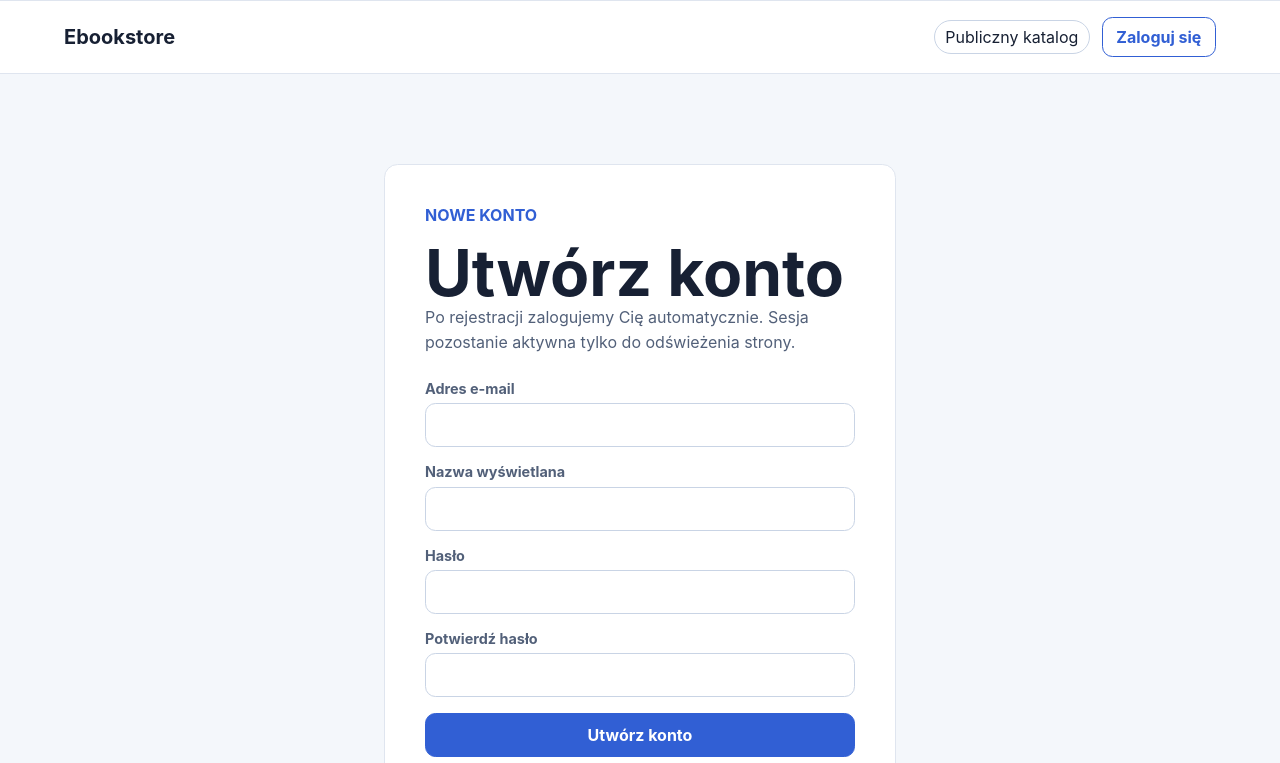
registration flow › creates an account, logs in and returns to the catalog
Type "user@example.com" into the field labelled "Adres e-mail" at (640, 425), box [425,403,855,447]
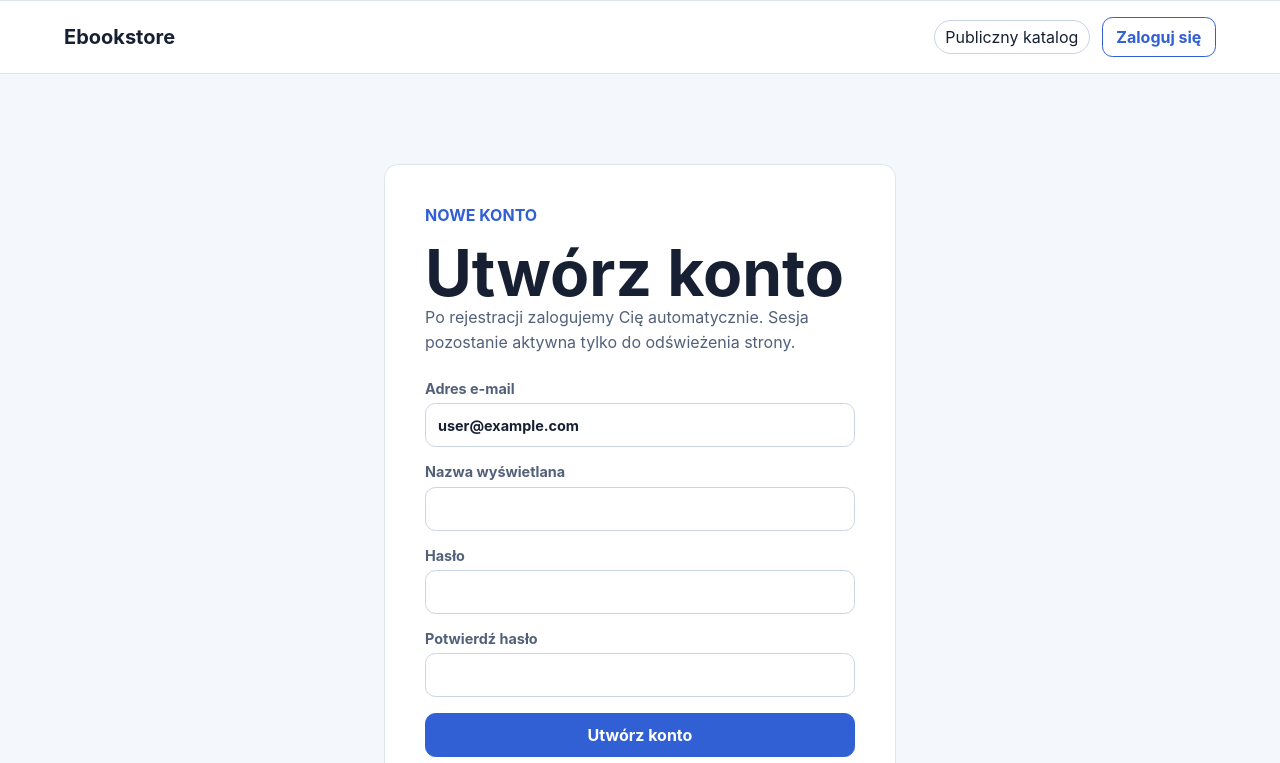
Type " Tomasz " into the field labelled "Nazwa wyświetlana" at (640, 509), box [425,487,855,531]
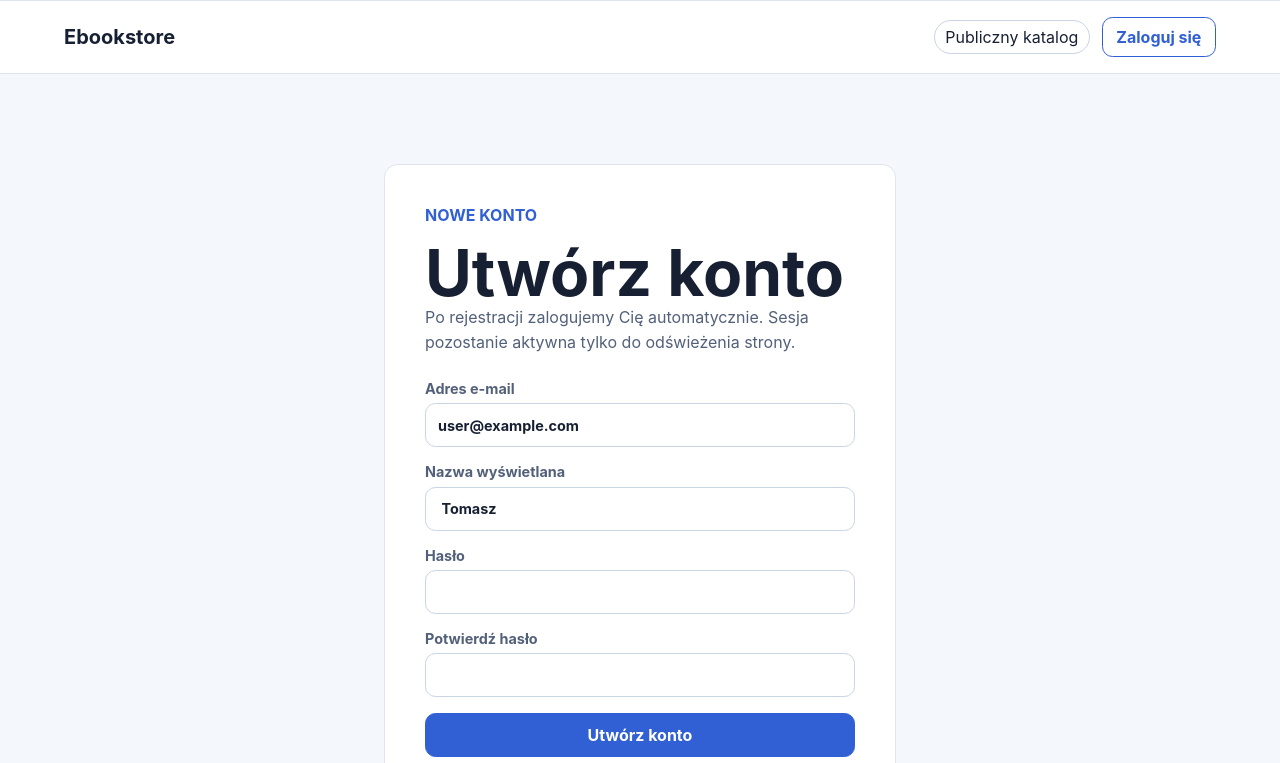
Type "Correct-Horse-42" into the password field labelled "Hasło" at (640, 592), box [425,570,855,614]
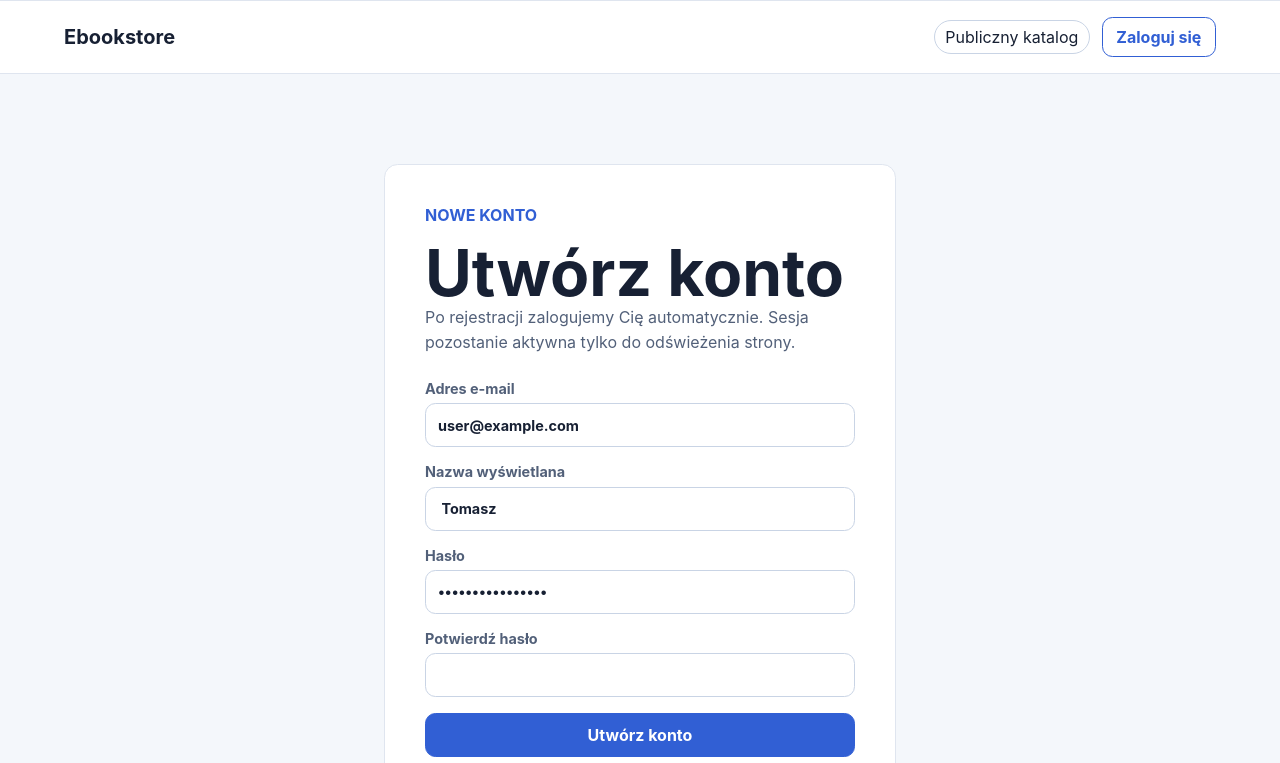
Type "Correct-Horse-42" into the password field labelled "Potwierdź hasło" at (640, 675), box [425,653,855,697]
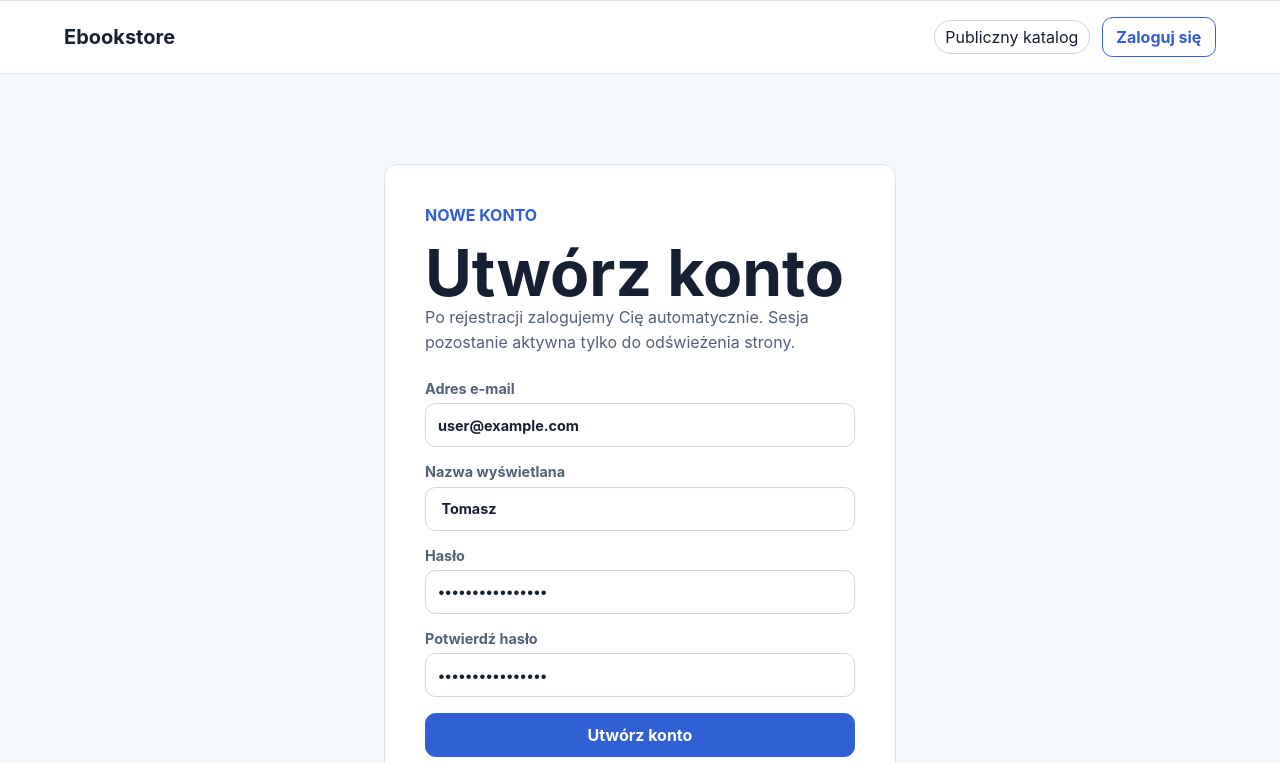
Click the button "Utwórz konto" at (640, 735), box [425,713,855,757]
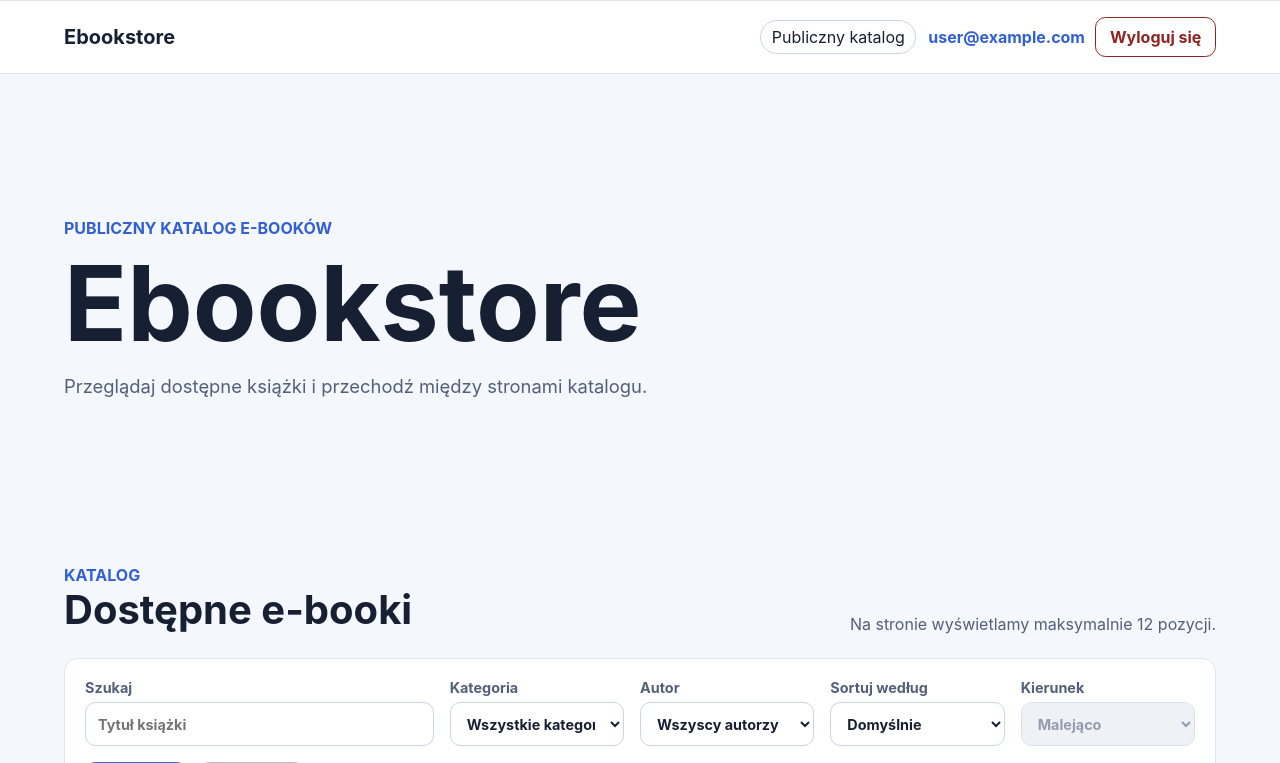
expect the heading "Ebookstore" is shown: met, box [64,240,642,366]
expect the link with aria-label "Zalogowano jako user@example.com" reads "user@example.com": met, box [928,27,1085,47]
